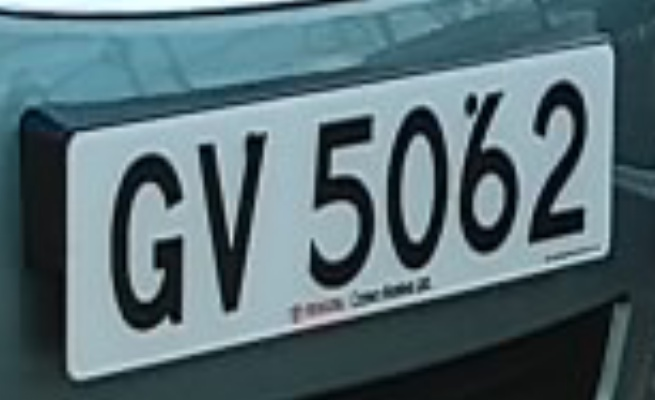0: (375, 92, 460, 281)
2: (521, 66, 598, 268)
5: (297, 89, 379, 304)
6: (452, 74, 522, 270)
G: (99, 127, 189, 342)
V: (189, 112, 280, 335)
